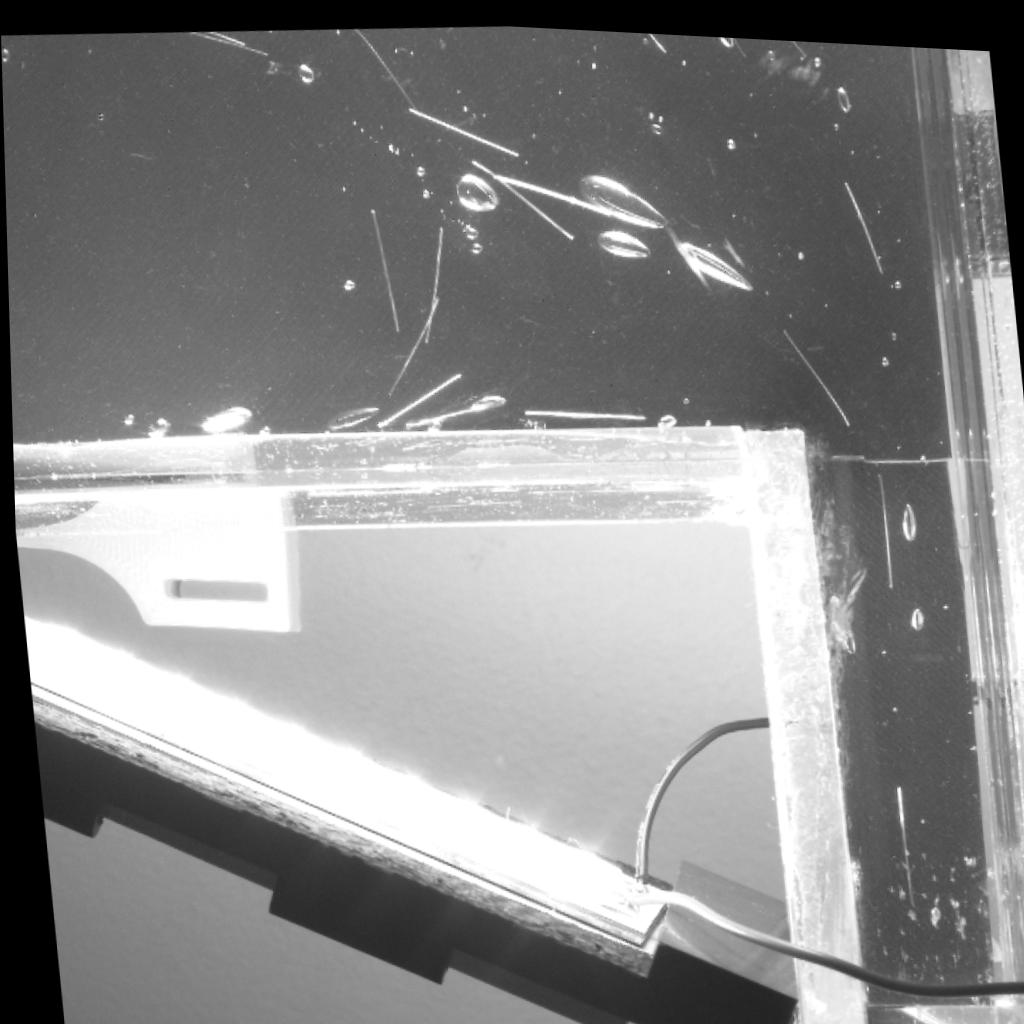Fiber: (466, 151, 582, 240), (779, 318, 856, 421), (385, 285, 452, 394), (404, 99, 526, 157), (489, 159, 616, 212), (371, 363, 461, 426), (359, 199, 400, 333), (349, 24, 418, 102), (838, 167, 891, 266), (884, 770, 915, 898), (396, 390, 498, 426), (873, 457, 900, 581), (421, 213, 446, 345), (182, 29, 270, 63), (513, 399, 653, 414), (727, 30, 753, 52), (643, 26, 669, 45), (787, 32, 813, 51)
